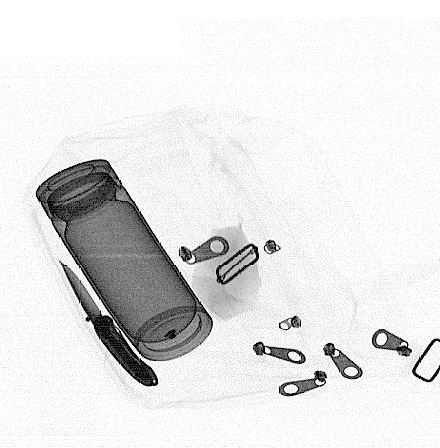Knife: (57, 258, 162, 388)
